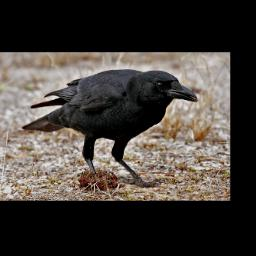Crow: (21, 69, 199, 188)
